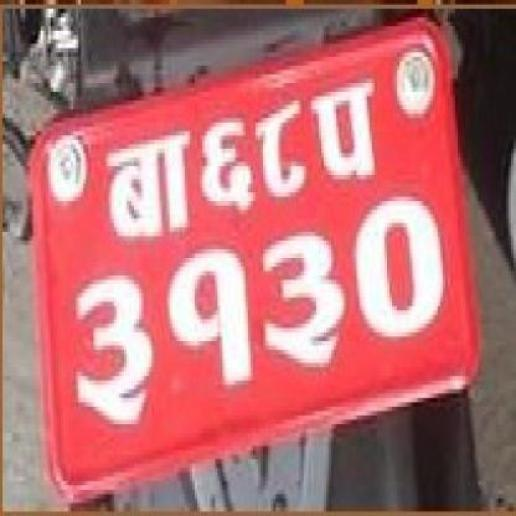0: (354, 193, 441, 333)
1: (167, 246, 253, 377)
3: (261, 228, 346, 377), (76, 276, 149, 411)
6: (200, 118, 251, 215)
8: (253, 101, 306, 198)
ba: (109, 132, 190, 250)
pa: (312, 78, 380, 175)
